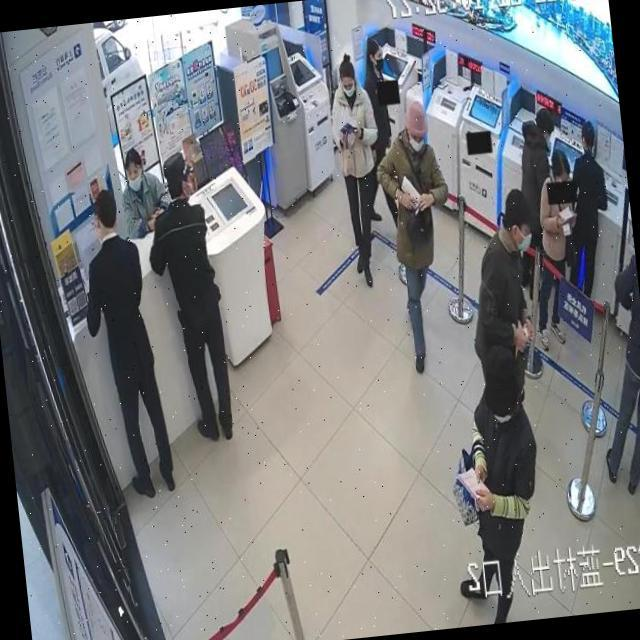person: (437, 342, 556, 626), (72, 184, 176, 503), (139, 150, 236, 444), (370, 93, 465, 378), (458, 189, 553, 403), (581, 217, 640, 497), (324, 54, 391, 288), (517, 146, 589, 349), (550, 119, 618, 301), (348, 36, 404, 244), (356, 38, 402, 240), (116, 147, 172, 241)
